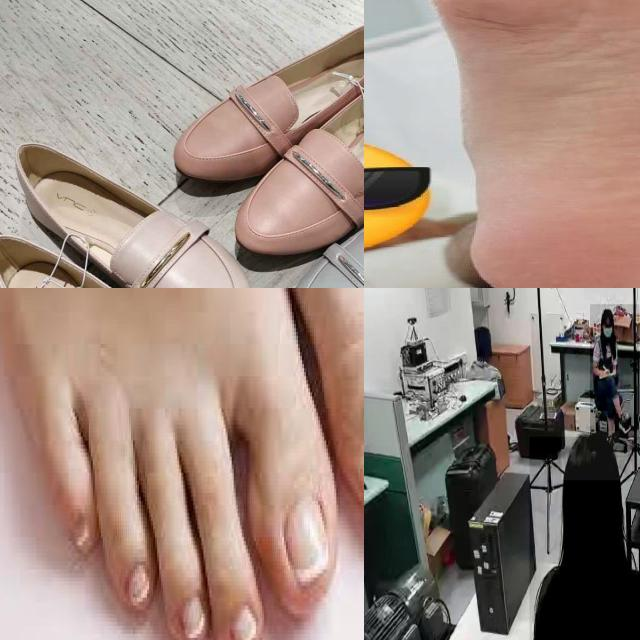Barefoots: (0, 288, 330, 640), (413, 0, 640, 288), (228, 288, 364, 526)
Sandals: (159, 6, 364, 258), (0, 126, 255, 288)
face_mask: (601, 319, 617, 348)
hand_noglove: (600, 366, 610, 378)
head_nohelmet: (562, 431, 620, 481), (600, 307, 614, 319)
person: (529, 436, 640, 640), (590, 304, 640, 452)
shoes: (618, 412, 632, 436)
